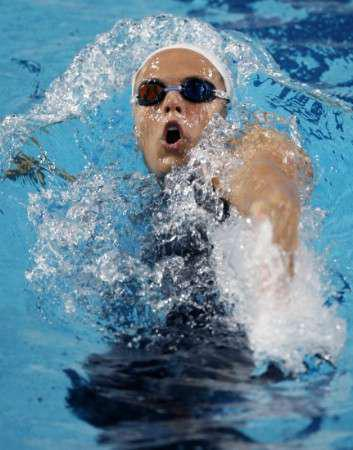human: (130, 41, 300, 302)
